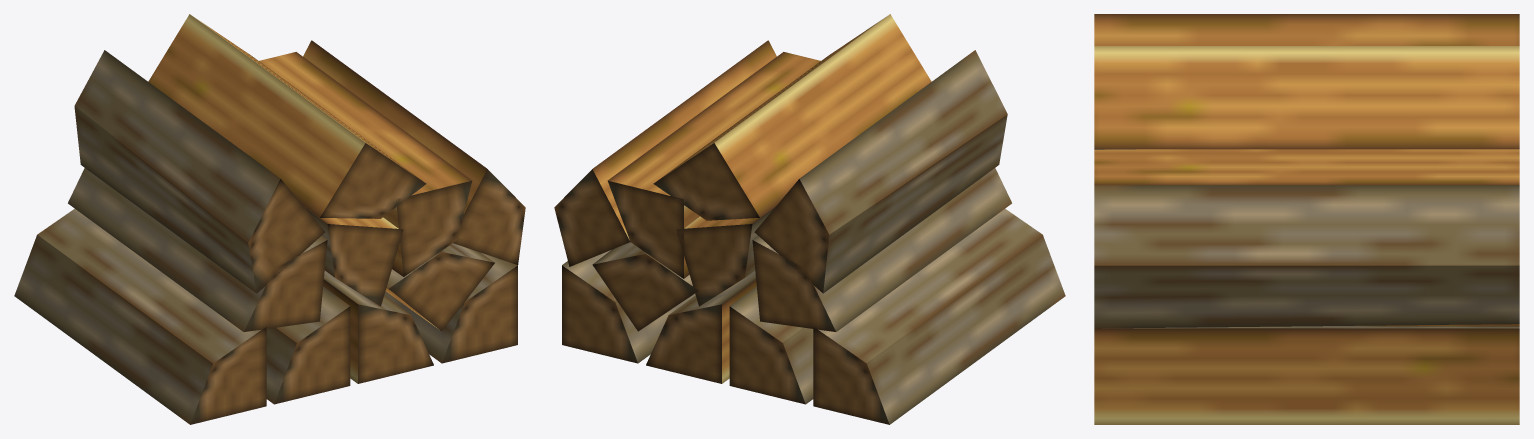
File: Poly_Woods_01.obj
3 renders of one model, left to right at view 1: azimuth 30°, elevation 25°; view 2: azimuth 150°, elevation 25°; view 3: azimuth 270°, elevation 25°, orthographic. The views are drawn at different scales.
Visible parts, largest first — view 1: Cube; view 2: Cube; view 3: Cube.
Boxes of the visible parts, left/top/right/bottom form: Cube: left=14, top=14, right=525, bottom=424; Cube: left=554, top=14, right=1065, bottom=424; Cube: left=1094, top=14, right=1519, bottom=424.
Bounding box in the file's own units: 0.6617 × 0.4511 × 0.6015.
Materials: 1 (1 with a texture image).
